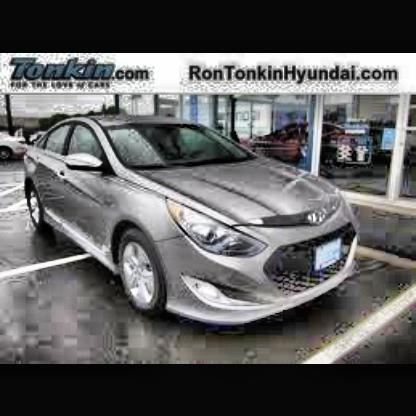Hyundai Sonata Hybrid Sedan 2012: (24, 114, 361, 330)
